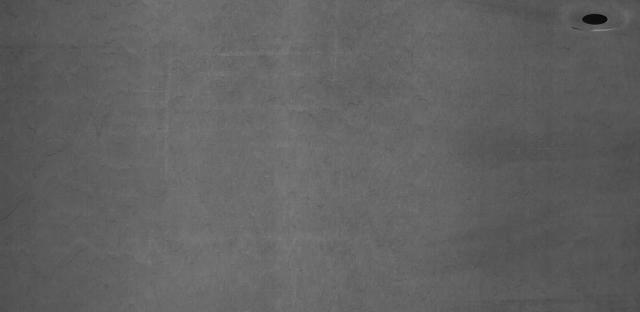punching_hole: (580, 8, 614, 28)
silk_spot: (220, 11, 400, 264), (10, 22, 158, 278)
